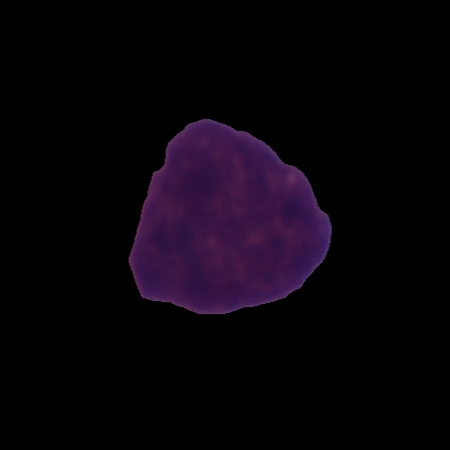ALL: (123, 115, 336, 320)
